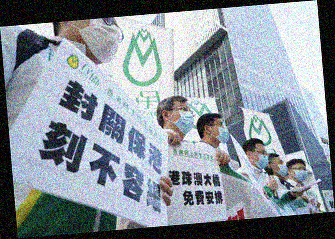with_mask: (79, 19, 121, 65), (171, 103, 196, 135), (212, 120, 231, 145), (253, 148, 271, 170), (292, 164, 310, 182), (274, 158, 289, 177)
